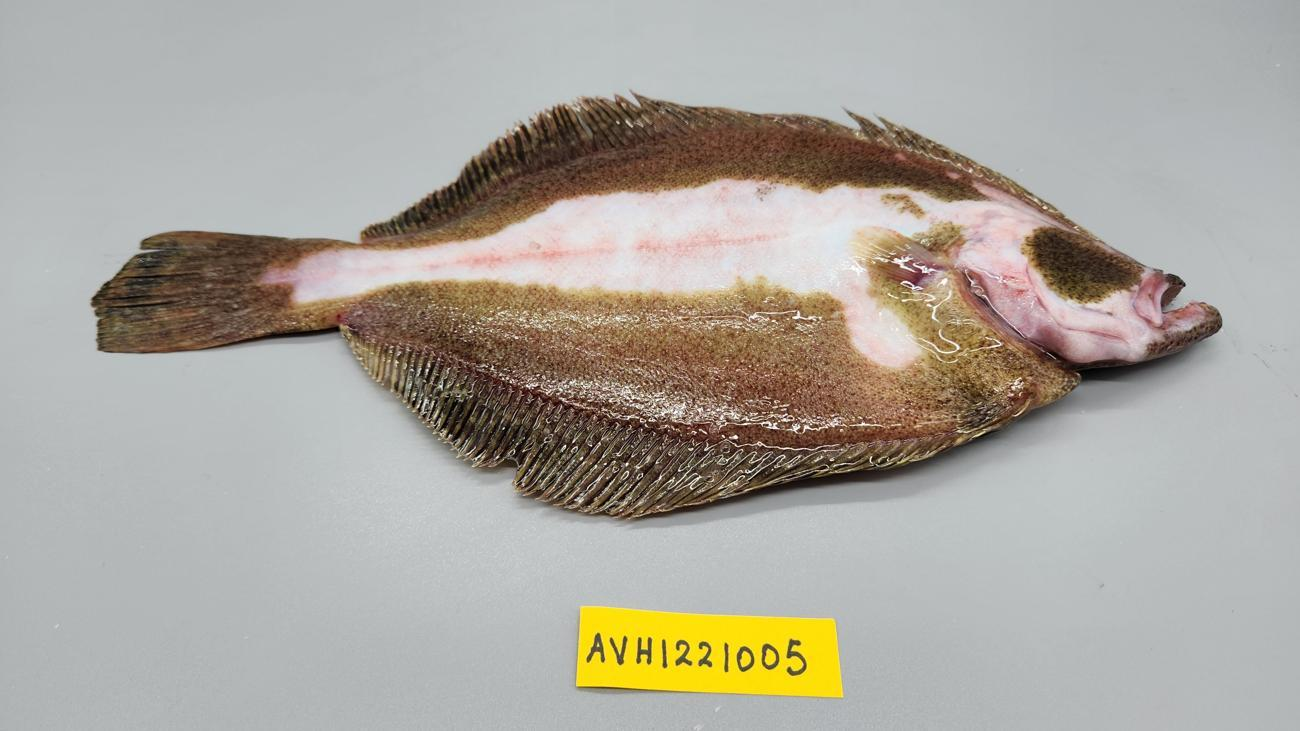VIFCH: (93, 233, 251, 353)
VIOUY: (90, 95, 1224, 522)
